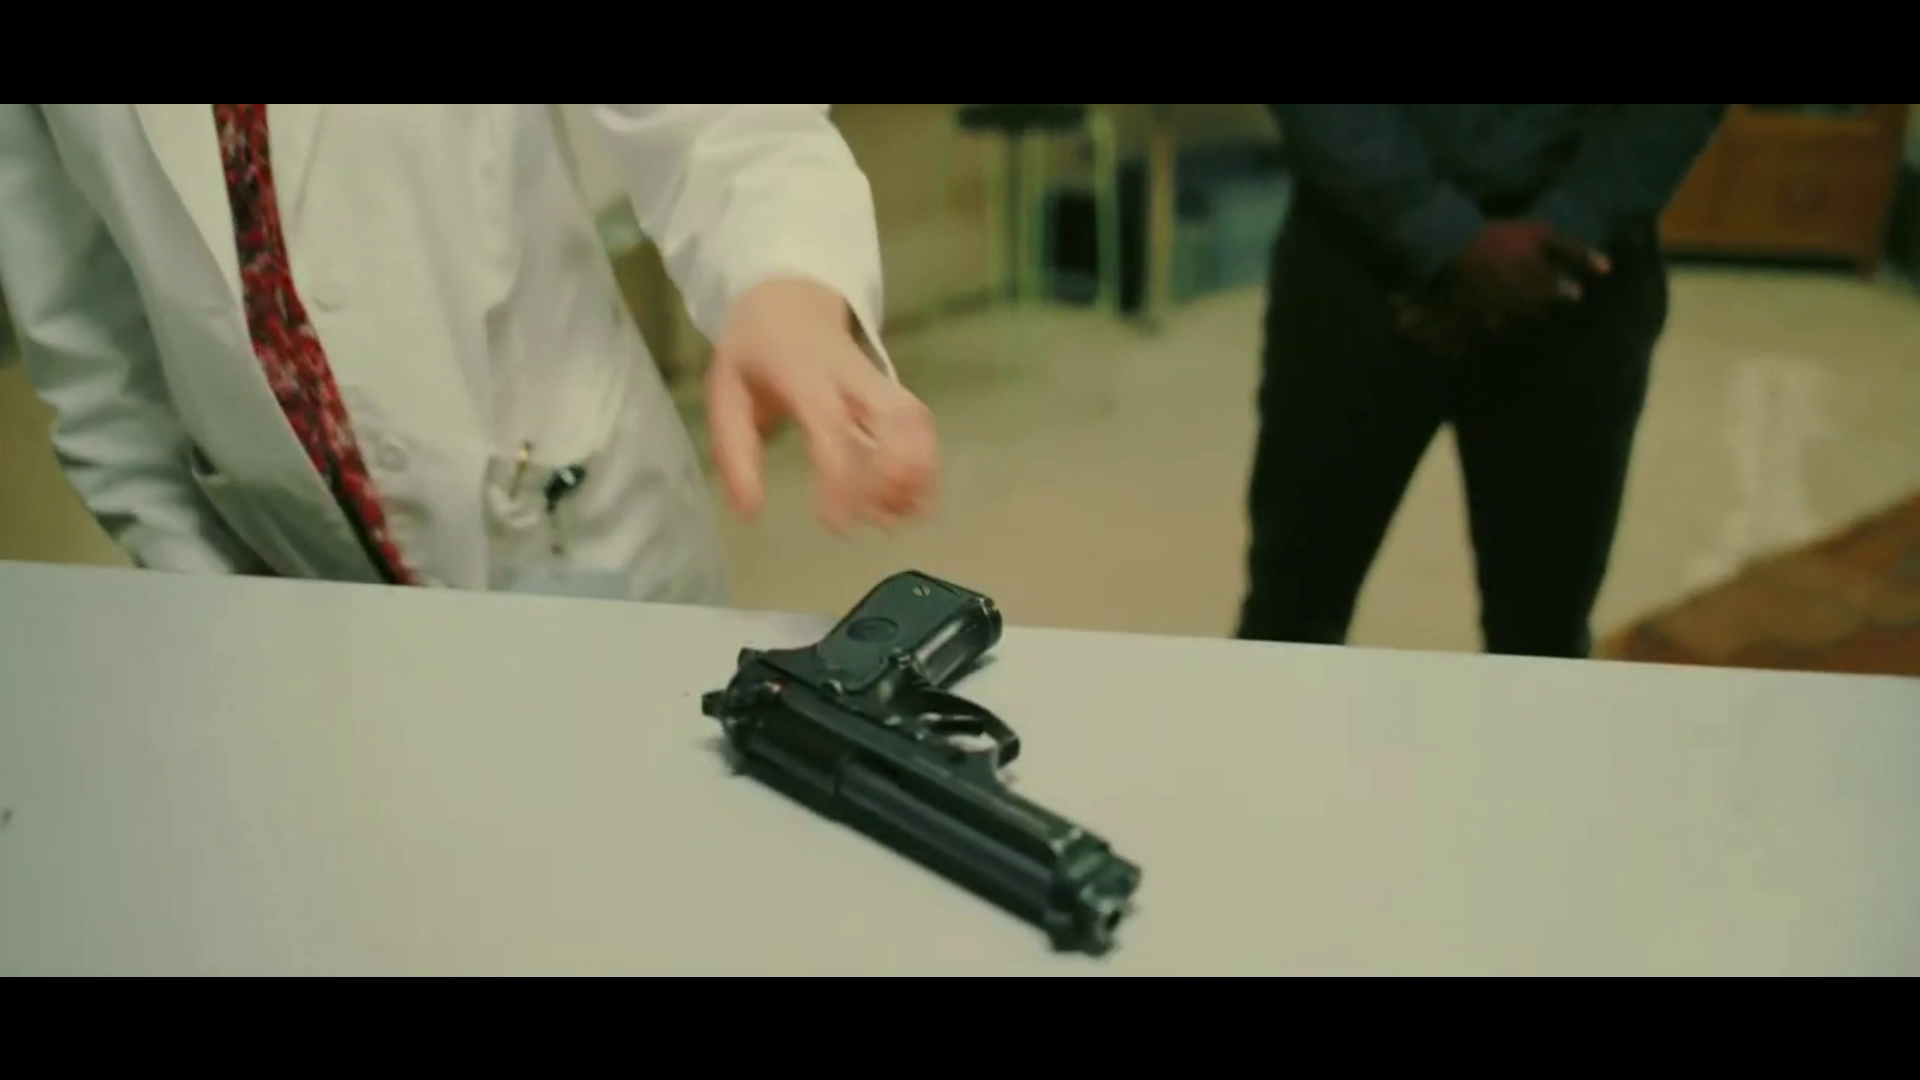SIG P226: (712, 567, 1145, 953)
